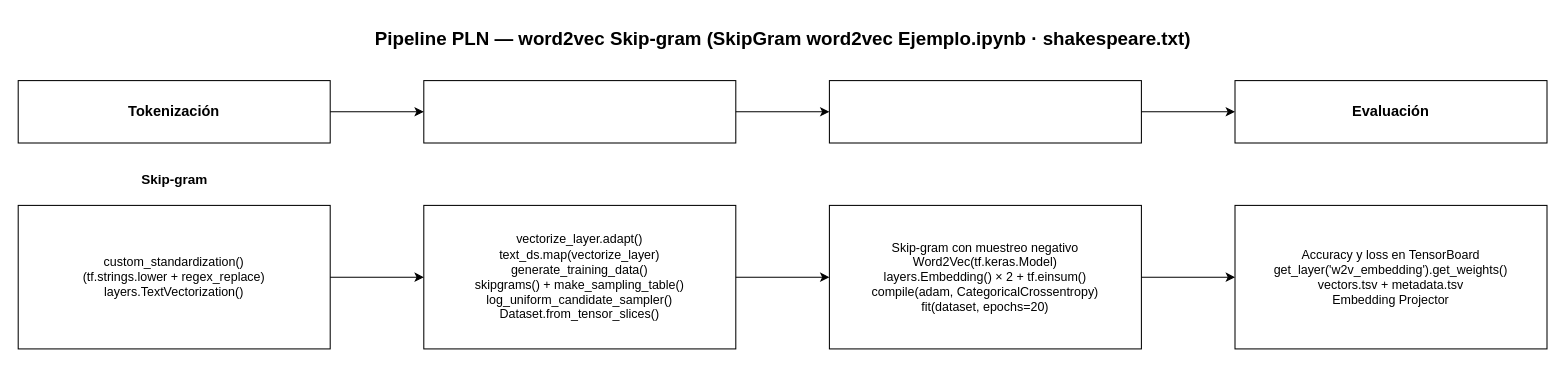
This 1565x367 diagram has some shape labels left out. Here are the shapes that lost their labels. From the top down, the centre of each, then its label:
At pixel 579 111: "Vectorización".
At pixel 984 111: "Modelo".
